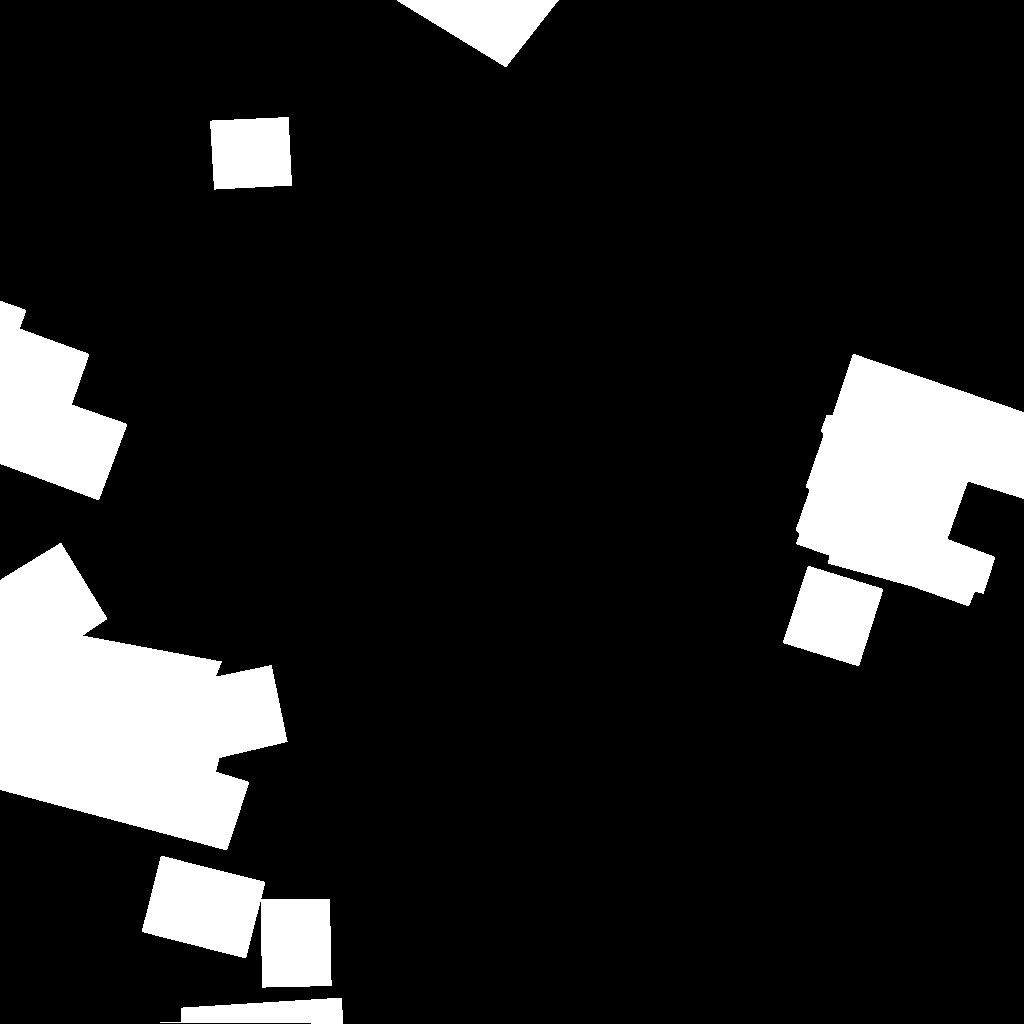building: (0, 543, 288, 851), (796, 354, 1024, 607), (0, 301, 128, 501), (142, 856, 266, 959), (396, 0, 560, 68), (783, 566, 884, 667), (261, 899, 332, 988), (210, 117, 293, 190), (149, 998, 344, 1024)
